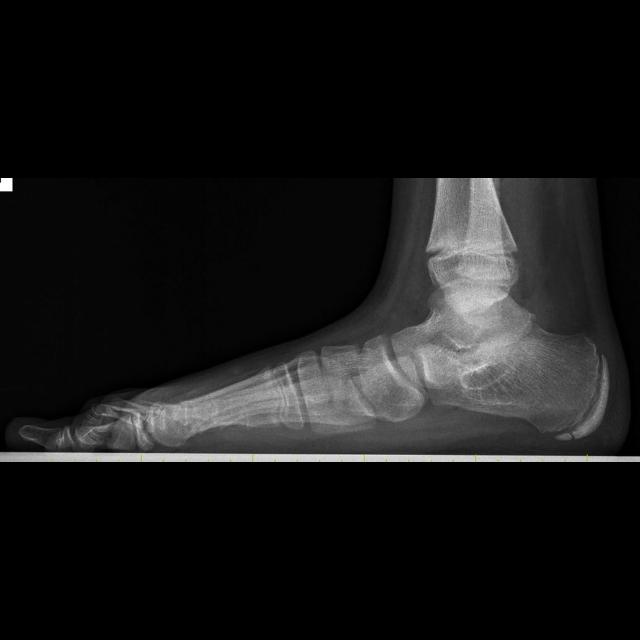a: (415, 321, 610, 441)
b: (350, 334, 423, 421)
c: (141, 363, 301, 449)
